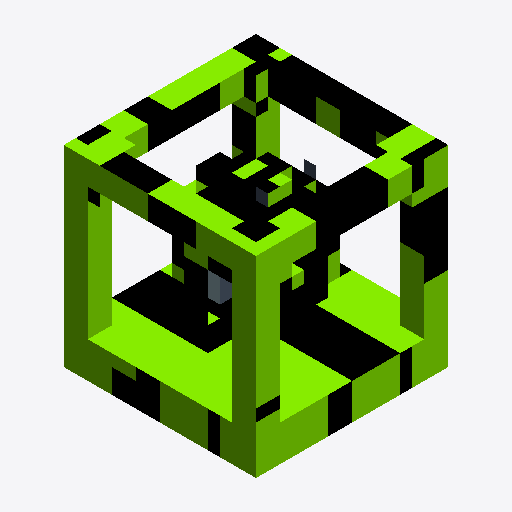
A Minecraft block model of 59 cuboids, rendered isometrically (azimuth 45°, elevation 35.3°) with the resource pack's own textures.
Visible parts, largest first — element 2, element 3, element 5, element 8, element 4, element 6, element 7, element 9, element 1, element 11, element 13, element 12 (+10 smaller).
Boxes of the visible parts, box(x1,y1,x2,y2) form: element 2: box(64, 263, 447, 477); element 3: box(100, 152, 243, 262); element 5: box(268, 152, 411, 262); element 8: box(232, 284, 279, 435); element 4: box(268, 55, 411, 157); element 6: box(100, 55, 243, 157); element 7: box(64, 187, 111, 338); element 9: box(400, 187, 447, 338); element 1: box(220, 215, 291, 296); element 11: box(64, 124, 135, 206); element 13: box(376, 124, 447, 206); element 12: box(220, 34, 291, 116).
Bounding box in the file's own units: 16 × 16 × 16.